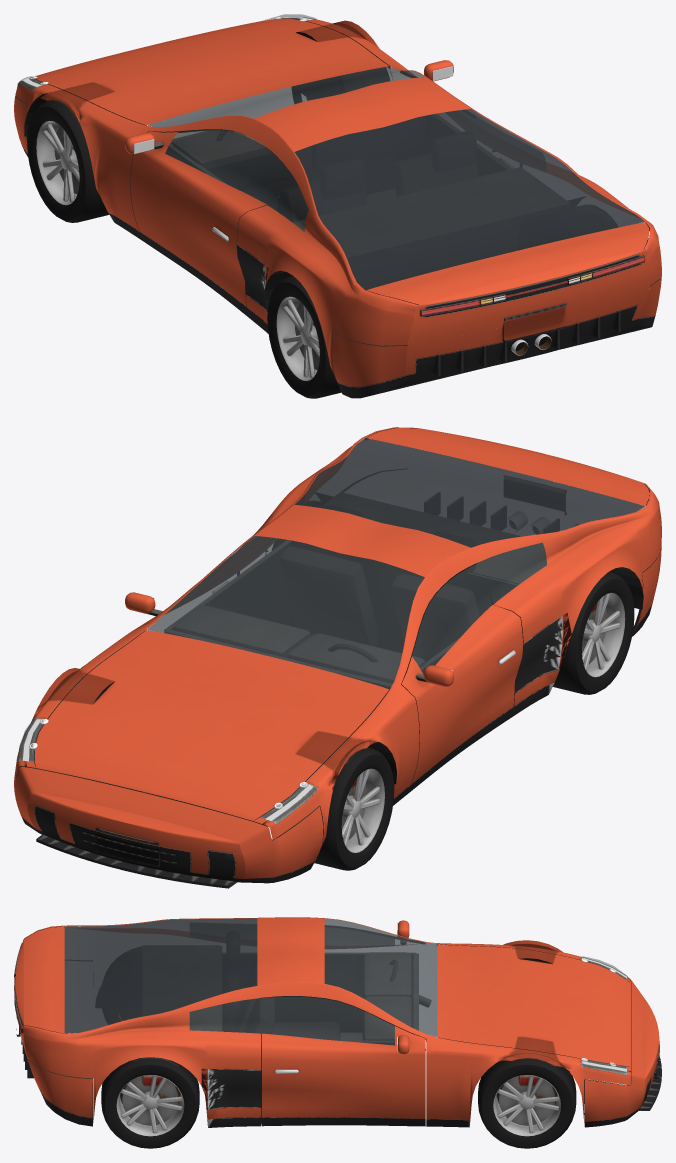
File: supercar.glb
3 renders of one model, top to bottom at view 1: azimuth 30°, elevation 25°; view 2: azimuth 150°, elevation 25°; view 3: azimuth 270°, elevation 25°, orthographic. The views are drawn at different scales.
Parts seen in each view (by area): view 1: lod0, window_rear, hood, door_fl, bumper_r, trunk, wheel_fl_mesh, wheel_rl_mesh, window_front, window_l, wheel_fr, door_fr; view 2: lod0, hood, window_front, bumper_f, window_rear, door_fl, wheel_fl_mesh, trunk, wheel_rl_mesh, window_l, door_fr, bumper_r; view 3: lod0, door_fr, hood, window_rear, window_front, wheel_fr, wheel_rr, bumper_f, trunk, bumper_r, window_r, door_fl.
Part boxes in pixels (left/top/right/bottom): lod0: left=15, top=14, right=661, bottom=395; window_rear: left=294, top=109, right=645, bottom=290; hood: left=35, top=18, right=388, bottom=125; door_fl: left=125, top=130, right=283, bottom=318; bumper_r: left=332, top=278, right=661, bottom=398; trunk: left=366, top=222, right=649, bottom=305; wheel_fl_mesh: left=27, top=100, right=109, bottom=222; wheel_rl_mesh: left=267, top=276, right=341, bottom=398; window_front: left=146, top=66, right=424, bottom=126; window_l: left=267, top=164, right=308, bottom=231; wheel_fr: left=292, top=30, right=389, bottom=103; door_fr: left=400, top=60, right=453, bottom=81; lod0: left=15, top=427, right=661, bottom=860; hood: left=34, top=630, right=389, bottom=821; window_front: left=146, top=536, right=424, bottom=689; bumper_f: left=14, top=759, right=323, bottom=888; window_rear: left=295, top=438, right=644, bottom=547; door_fl: left=401, top=564, right=523, bottom=794; wheel_fl_mesh: left=314, top=747, right=394, bottom=870; trunk: left=366, top=428, right=649, bottom=505; wheel_rl_mesh: left=553, top=572, right=634, bottom=694; window_l: left=477, top=542, right=546, bottom=604; door_fr: left=125, top=536, right=270, bottom=628; bumper_r: left=545, top=531, right=661, bottom=636; lod0: left=14, top=917, right=630, bottom=1127; door_fr: left=261, top=996, right=425, bottom=1126; hood: left=437, top=944, right=630, bottom=1067; window_rear: left=64, top=918, right=257, bottom=1033; window_front: left=324, top=918, right=437, bottom=1036; wheel_fr: left=478, top=1058, right=576, bottom=1148; wheel_rr: left=101, top=1057, right=199, bottom=1148; bumper_f: left=584, top=980, right=661, bottom=1127; trunk: left=15, top=926, right=64, bottom=1033; bumper_r: left=16, top=1017, right=92, bottom=1126; window_r: left=189, top=998, right=261, bottom=1033; door_fl: left=325, top=920, right=425, bottom=948.
Size of what is drawn, in the model's own units: 2.1 by 1.14 by 4.61.
Materials: 12 (8 with a texture image).
